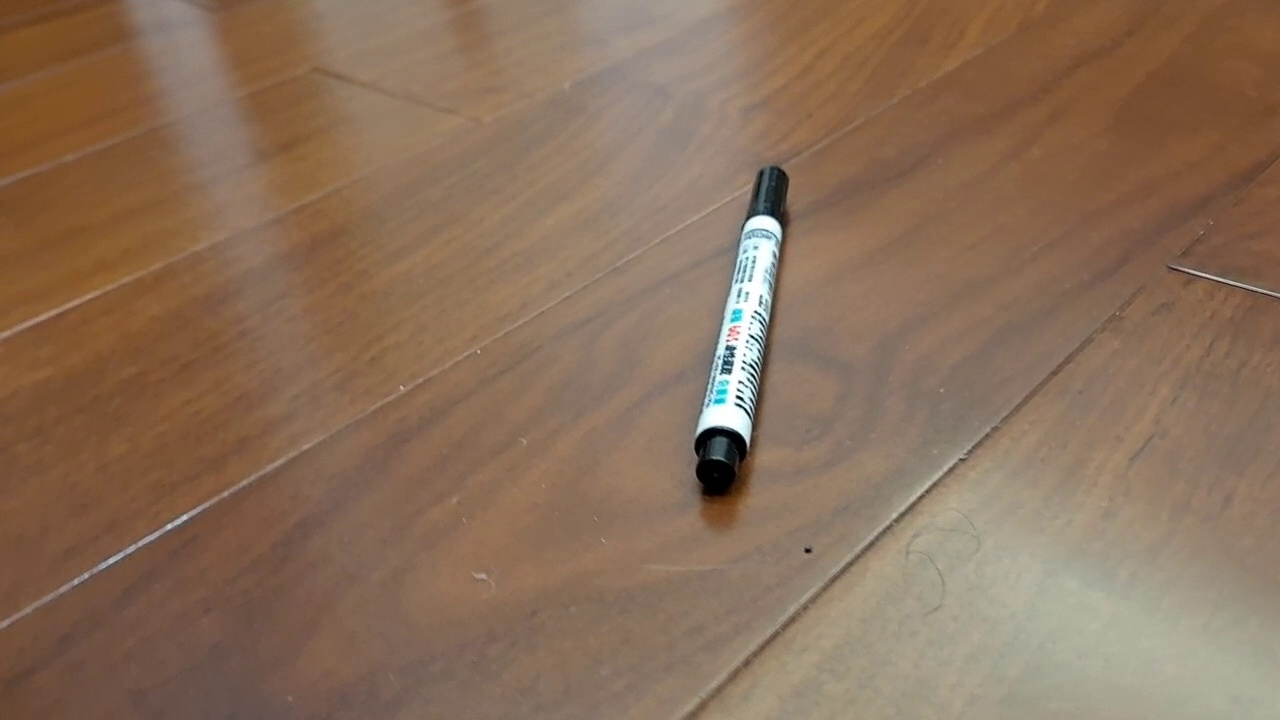pen: (693, 165, 790, 497)
